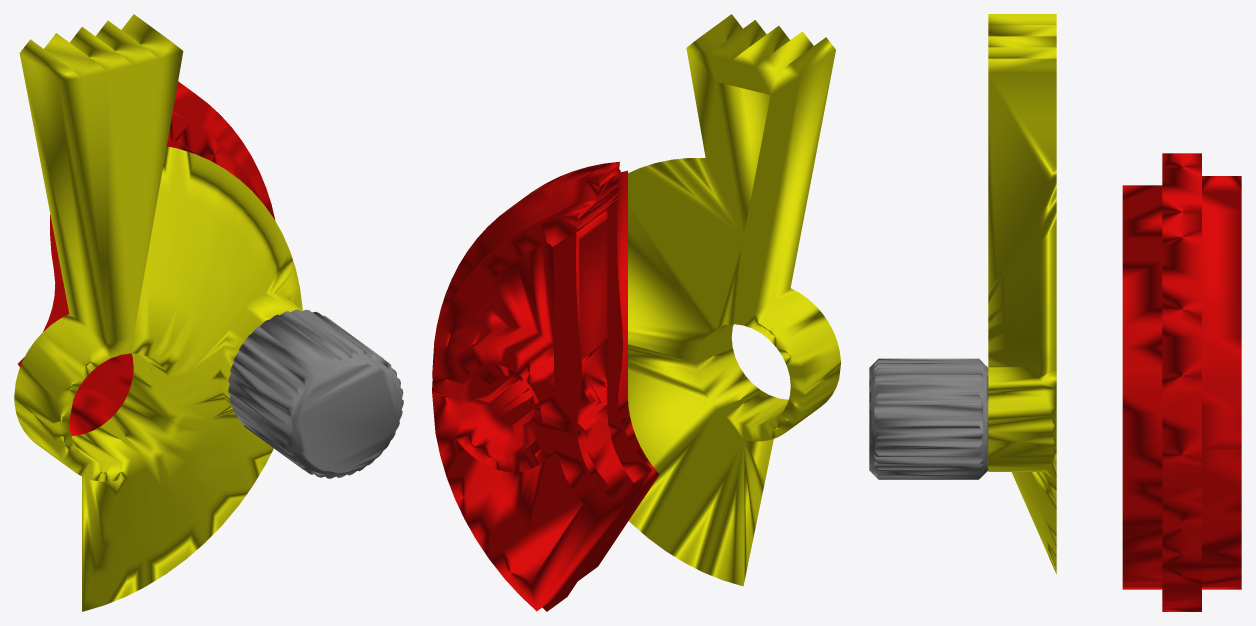
The model's file is bennettinsert_left_red_deco.obj.
3 views of the same model, side by side, from view 1: azimuth 30°, elevation 25°; view 2: azimuth 150°, elevation 25°; view 3: azimuth 270°, elevation 25° (orthographic). The views are drawn at different scales.
Bounding box in the file's own units: 25.25 × 43.32 × 28.2.
